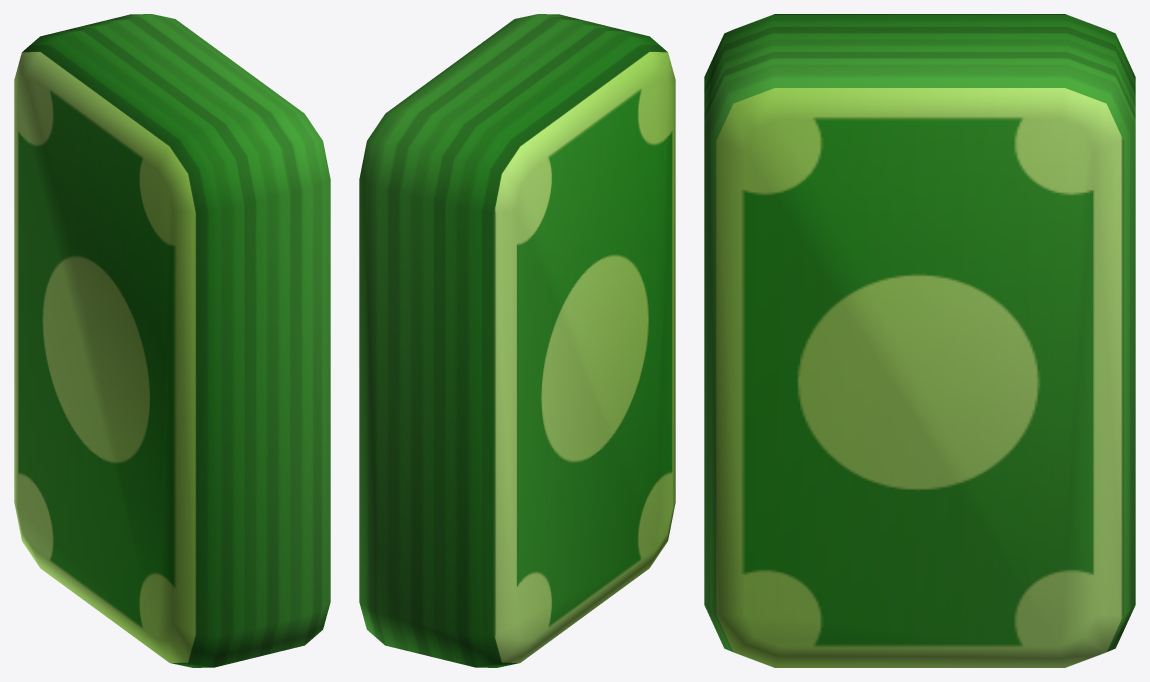
The model's file is Money_Banknote_V1_00.fbx.
The picture shows the model from 3 angles, left to right: view 1: azimuth 30°, elevation 25°; view 2: azimuth 150°, elevation 25°; view 3: azimuth 270°, elevation 25°; orthographic projection. The views are drawn at different scales.
Parts seen in each view (by area): view 1: Money_Banknote_V1_00; view 2: Money_Banknote_V1_00; view 3: Money_Banknote_V1_00.
Part boxes in pixels (x1=…): Money_Banknote_V1_00: x1=14, y1=14, x2=330, y2=667; Money_Banknote_V1_00: x1=359, y1=14, x2=675, y2=667; Money_Banknote_V1_00: x1=704, y1=14, x2=1135, y2=667.
Size of the model in its own units: 11.8 by 39.35 by 25.58.
